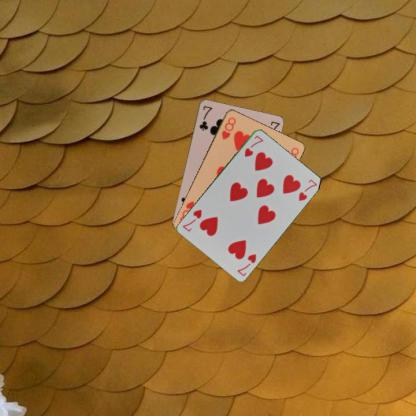7c: (197, 103, 214, 132)
7h: (235, 251, 258, 277), (242, 132, 264, 158)
8h: (219, 115, 237, 140)
